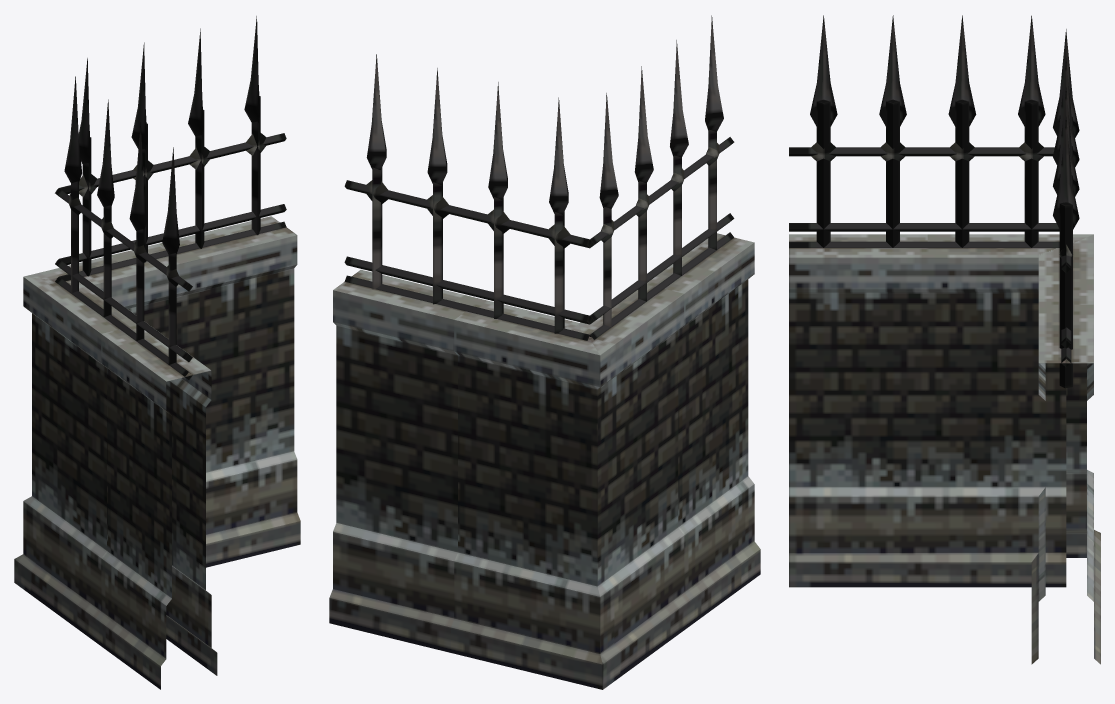
Rendered from EnvBdgMD_Snow_Seidoukikan_A_GrdWall_LF_CoOut.FBX.
3 renders of one model, left to right at view 1: azimuth 30°, elevation 25°; view 2: azimuth 150°, elevation 25°; view 3: azimuth 270°, elevation 25°, orthographic. The views are drawn at different scales.
Parts seen in each view (by area): view 1: EnvBdgMD_Snow_Seidoukikan_A_GrdWall_LF_CoOut; view 2: EnvBdgMD_Snow_Seidoukikan_A_GrdWall_LF_CoOut; view 3: EnvBdgMD_Snow_Seidoukikan_A_GrdWall_LF_CoOut.
Boxes of the visible parts, x1,y1,x2,y2 form: EnvBdgMD_Snow_Seidoukikan_A_GrdWall_LF_CoOut: [14, 16, 300, 689]; EnvBdgMD_Snow_Seidoukikan_A_GrdWall_LF_CoOut: [329, 15, 760, 689]; EnvBdgMD_Snow_Seidoukikan_A_GrdWall_LF_CoOut: [789, 15, 1100, 664].
Size of the model in its own units: 225 by 445 by 225.
1 material, 1 textured.
